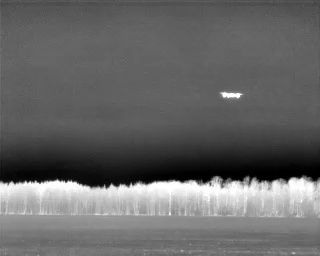DRONE: (216, 87, 246, 103)
